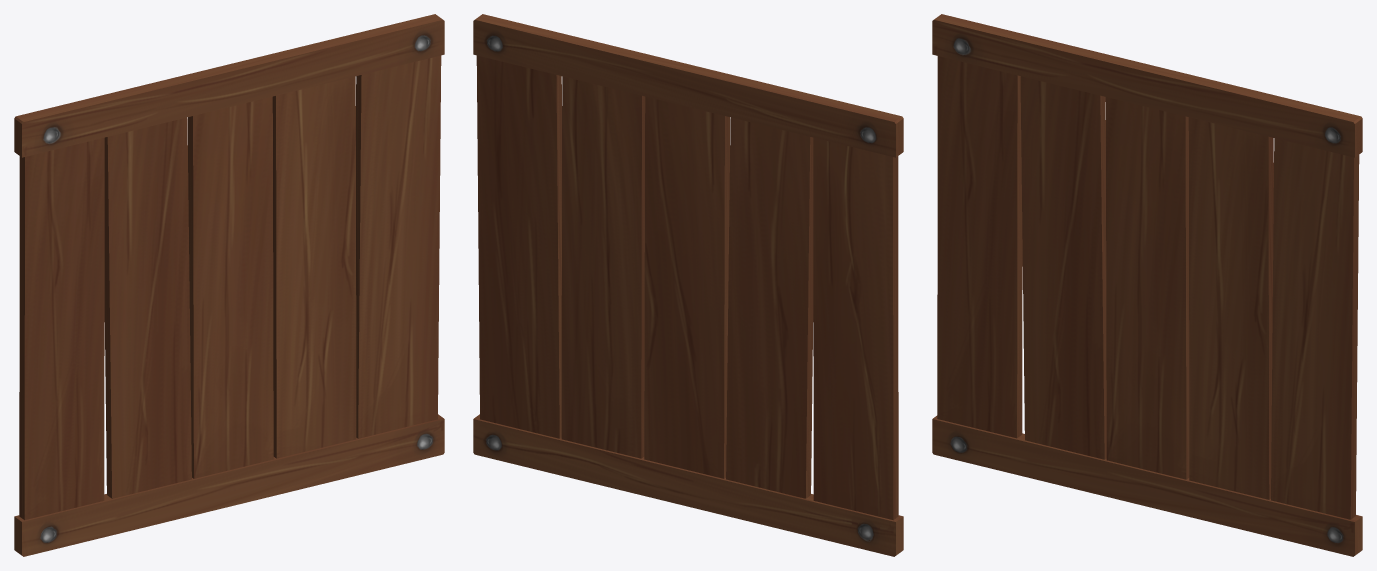
The model's file is woodenWall.glb.
3 views of the same model, side by side, from view 1: azimuth 30°, elevation 25°; view 2: azimuth 150°, elevation 25°; view 3: azimuth 330°, elevation 25° (orthographic).
Parts seen in each view (by area): view 1: Cube.002; view 2: Cube.002; view 3: Cube.002.
Boxes of the visible parts, x1=… form: Cube.002: x1=14, y1=14, x2=444, y2=556; Cube.002: x1=473, y1=14, x2=903, y2=556; Cube.002: x1=932, y1=14, x2=1362, y2=556.
Size of the model in its own units: 10.08 by 9.91 by 0.325.
Materials: 1 (1 with a texture image).
